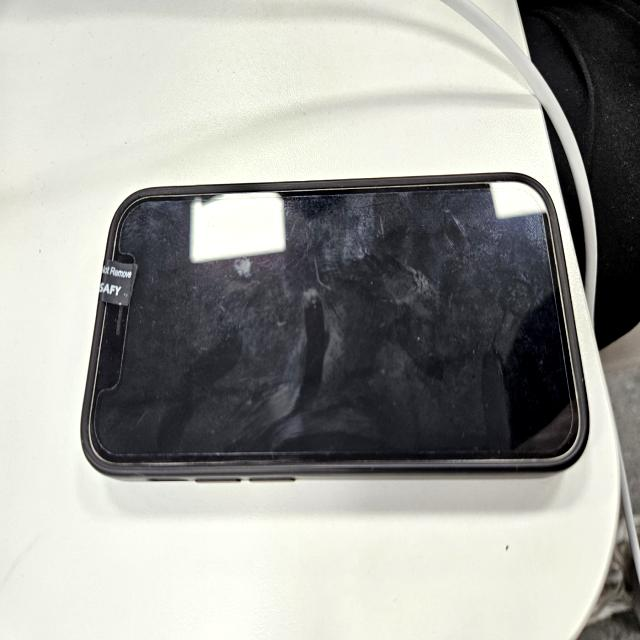phone: (75, 173, 590, 480)
sticker: (96, 254, 139, 307)
